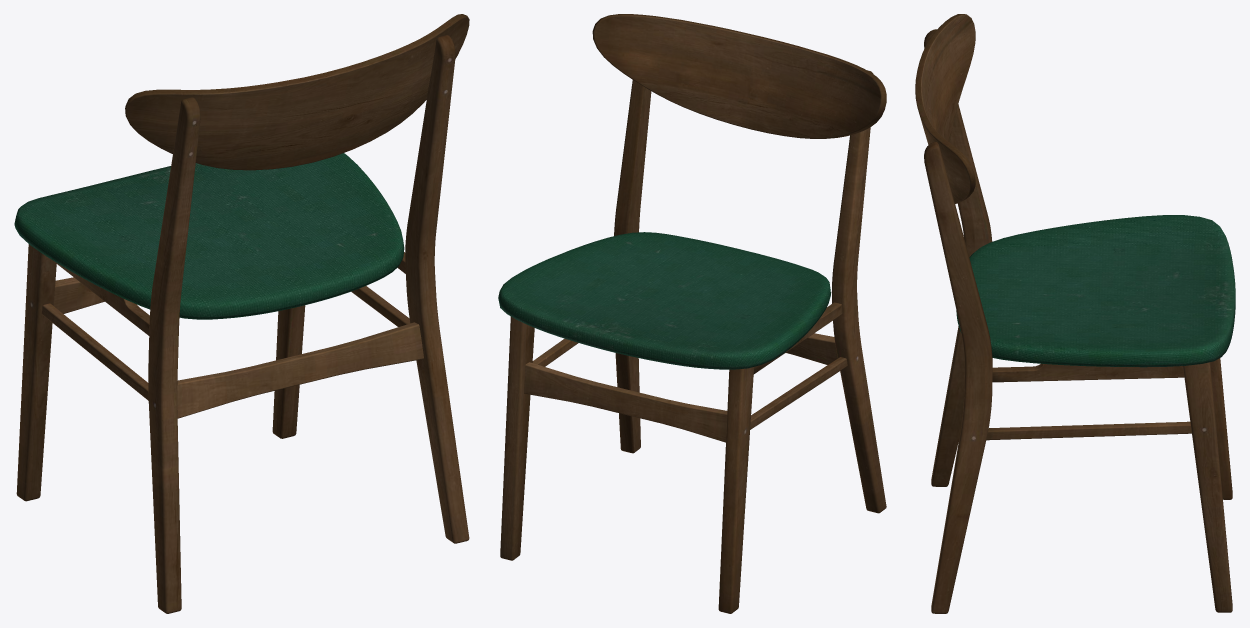
Rendered from chair.glb.
3 renders of one model, left to right at view 1: azimuth 30°, elevation 25°; view 2: azimuth 150°, elevation 25°; view 3: azimuth 270°, elevation 25°, orthographic. The views are drawn at different scales.
Parts seen in each view (by area): view 1: Chair_Chair_0; view 2: Chair_Chair_0; view 3: Chair_Chair_0.
Part boxes in pixels (bbox=[...]): Chair_Chair_0: bbox=[14, 14, 469, 613]; Chair_Chair_0: bbox=[498, 14, 886, 613]; Chair_Chair_0: bbox=[915, 14, 1235, 613].
Size of the model in its own units: 0.5229 by 0.7577 by 0.4671.
1 material, 1 textured.
